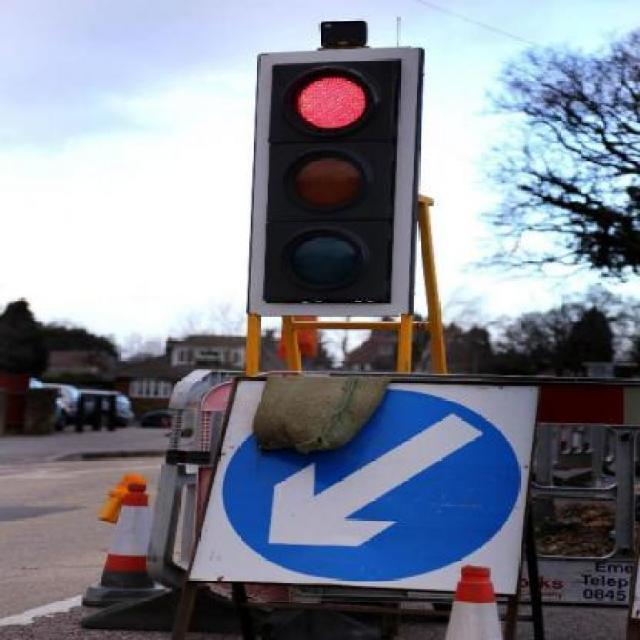red_light: (236, 9, 442, 343)
